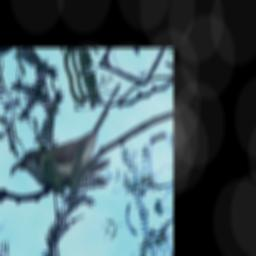Cuckoo: (1, 78, 143, 217)
